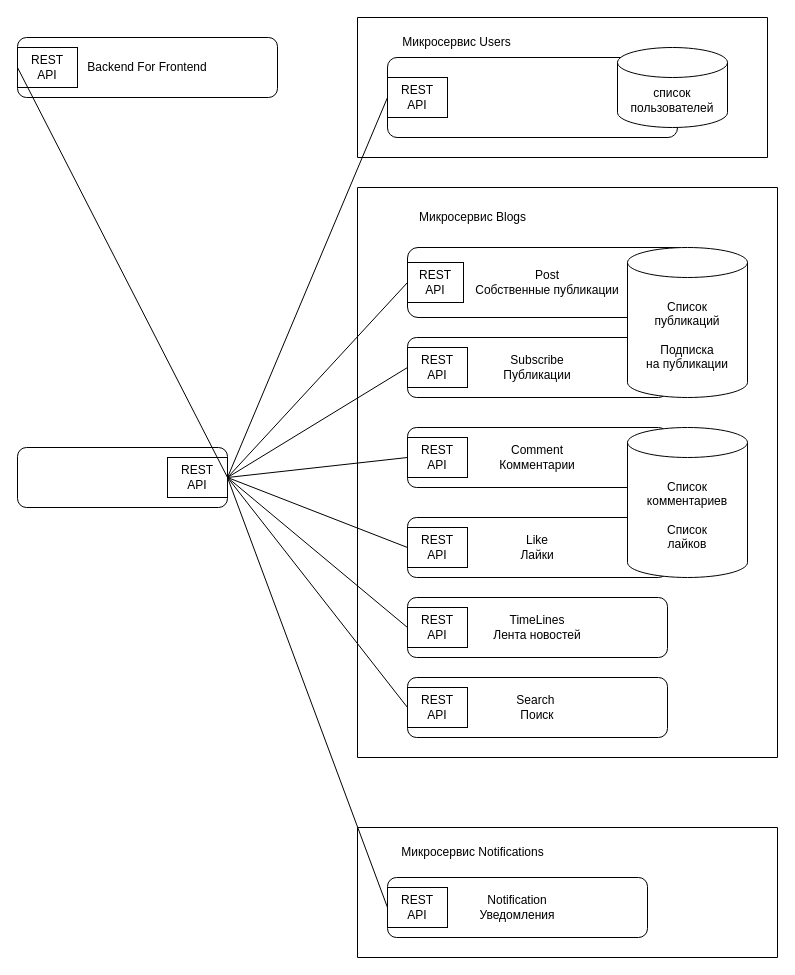
Some shapes in this 795 by 975 pixel diagram are drawn without their labels. The shapes that lost their labels are listed below. From the top down, each one's box as (x1, y1, x2, y2) in pixels, then its label:
(386, 56, 678, 138): User Пользователи
(16, 446, 228, 508): Брокер
